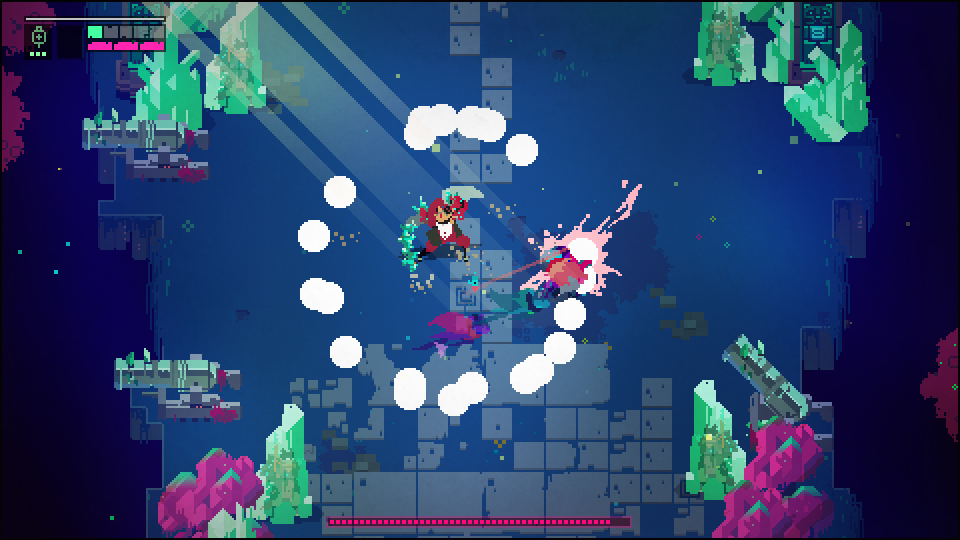hanged_man: (383, 182, 487, 274)
player: (537, 247, 597, 294)
